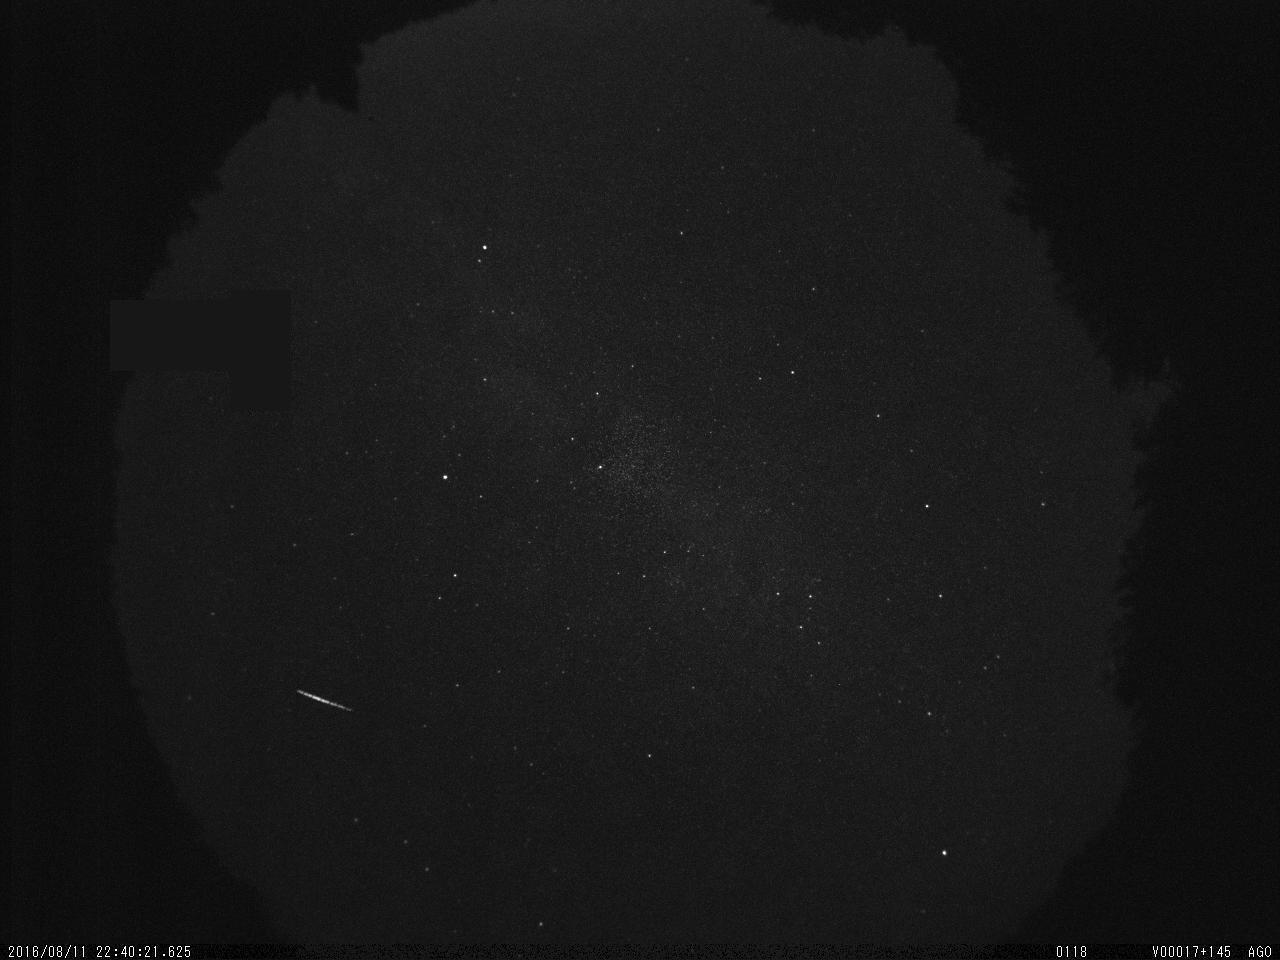Meteor: (288, 679, 362, 720)
